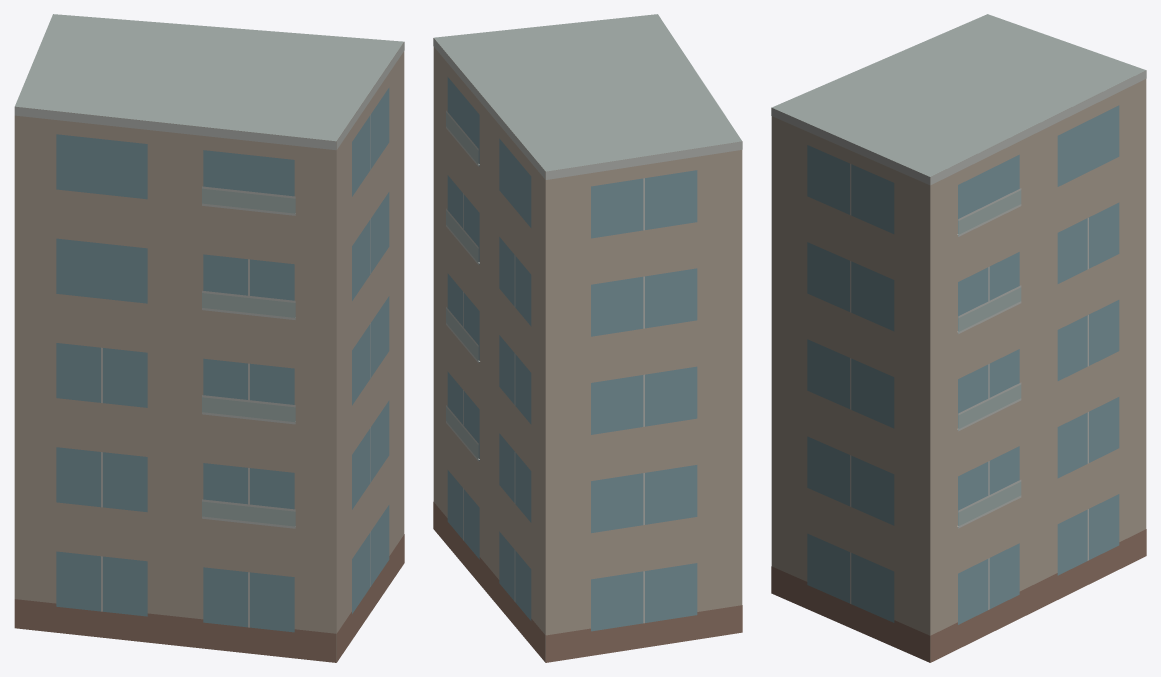
The model's file is survey-upis-32840770.glb.
3 views of the same model, side by side, from view 1: azimuth 30°, elevation 25°; view 2: azimuth 150°, elevation 25°; view 3: azimuth 270°, elevation 25° (orthographic). The views are drawn at different scales.
Parts seen in each view (by area): view 1: survey-upis-32840770.tmp; view 2: survey-upis-32840770.tmp; view 3: survey-upis-32840770.tmp.
Part boxes in pixels (x1,y1,x2,y2): survey-upis-32840770.tmp: (14,14,404,662); survey-upis-32840770.tmp: (433,14,742,662); survey-upis-32840770.tmp: (771,14,1146,662).
Bounding box in the file's own units: 10.23 × 14.2 × 9.94.
